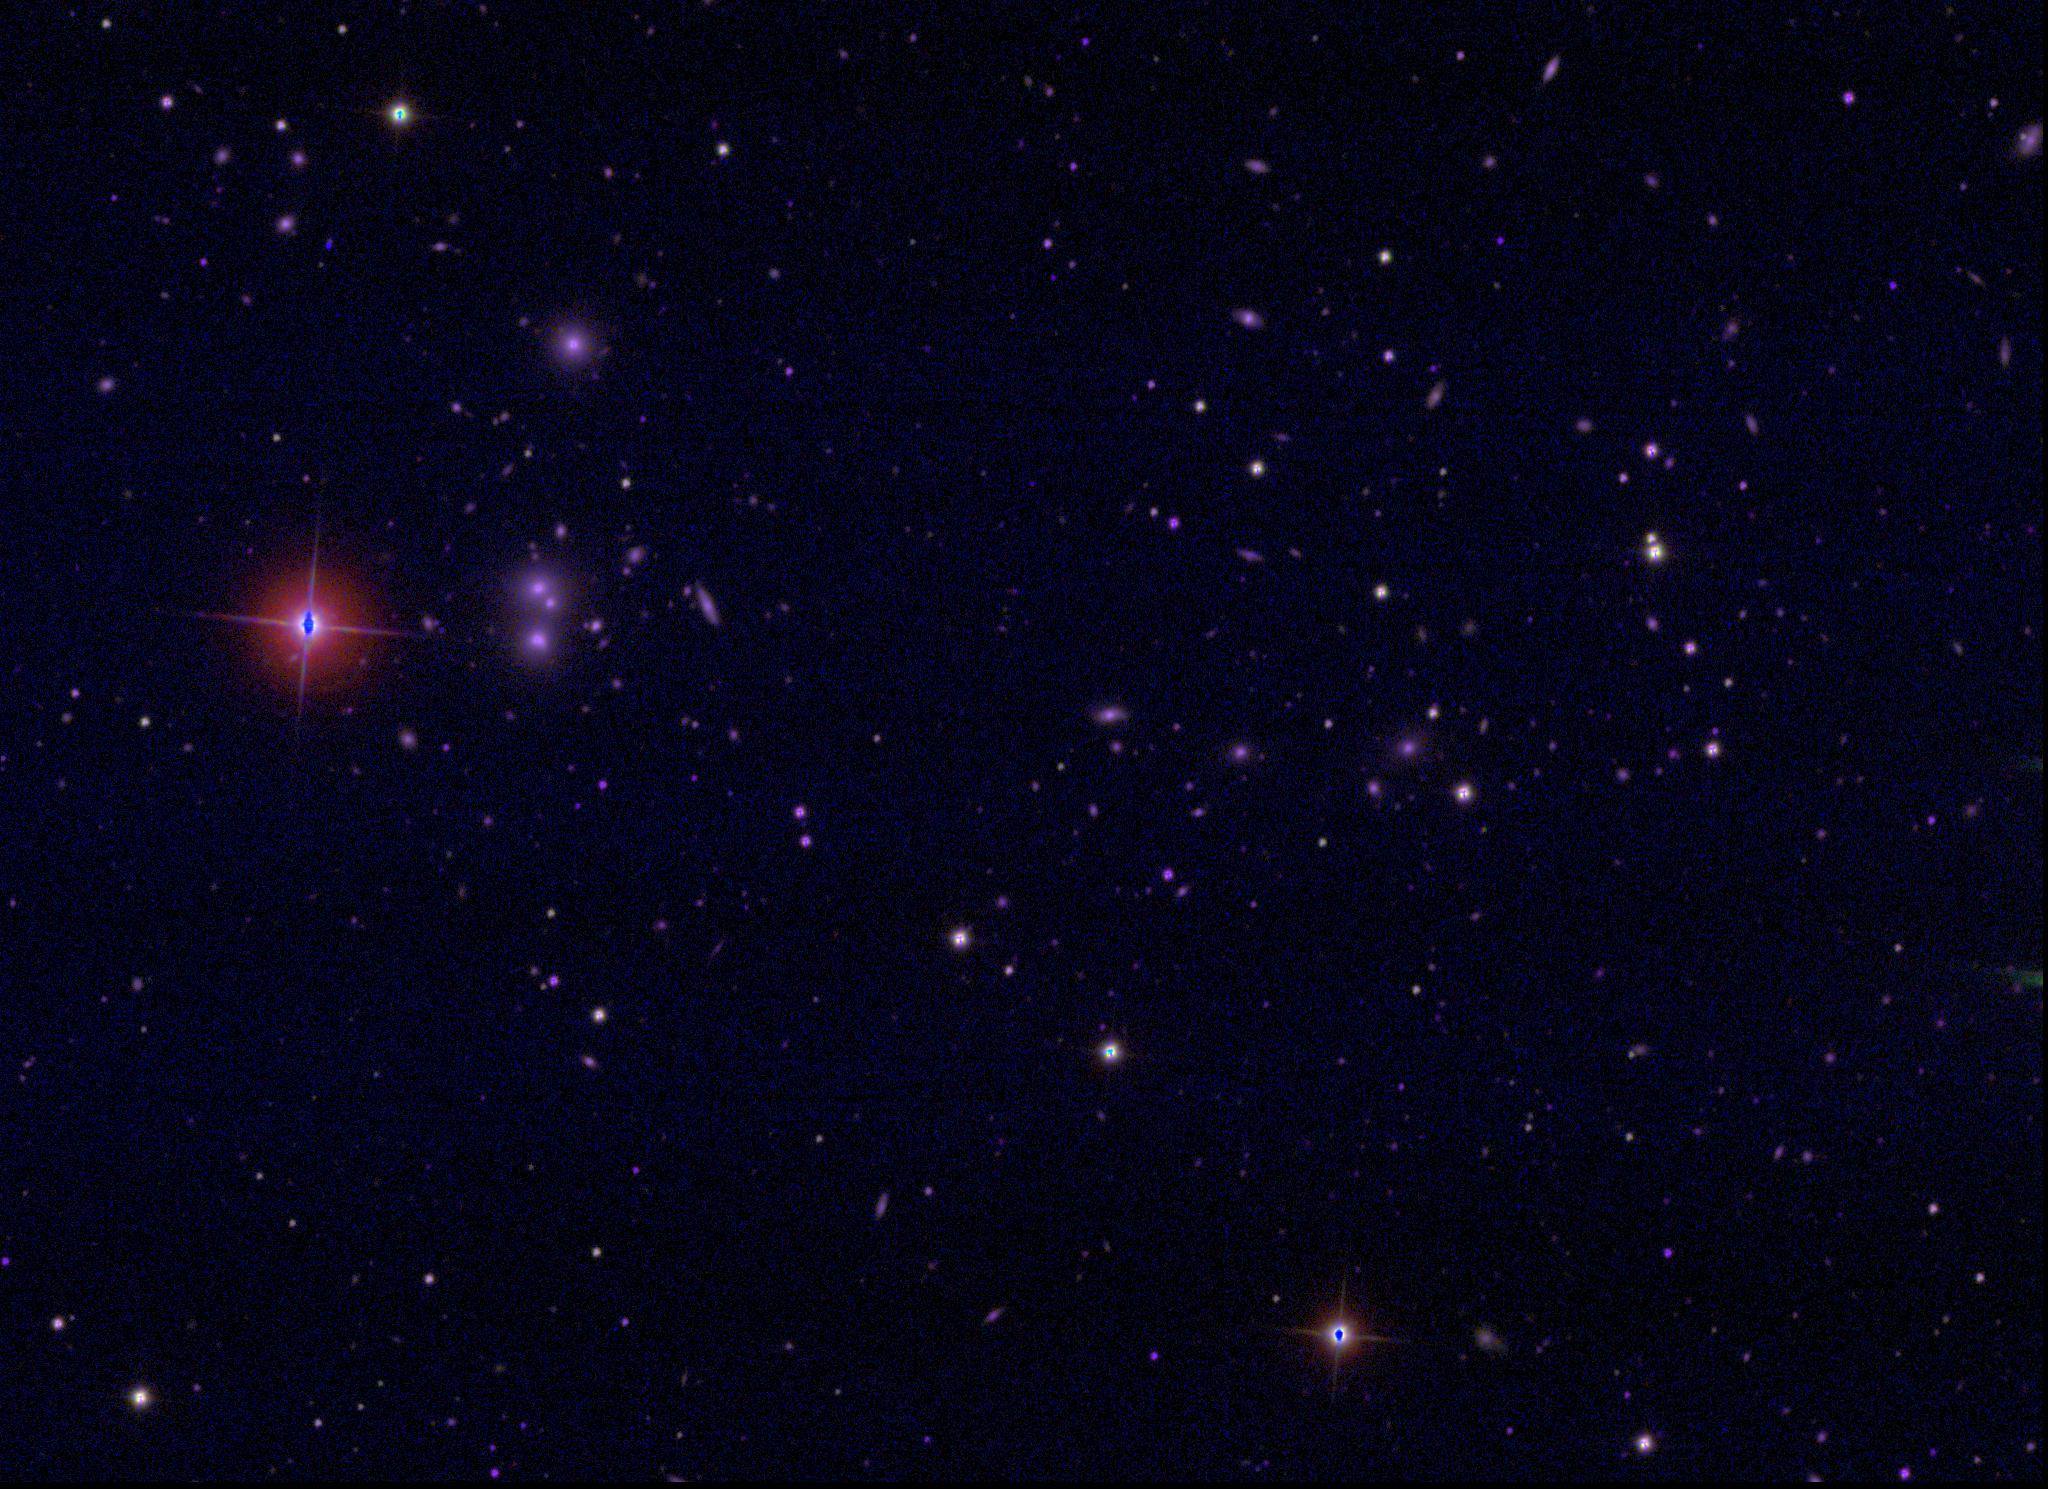L: (320, 235, 334, 250)
